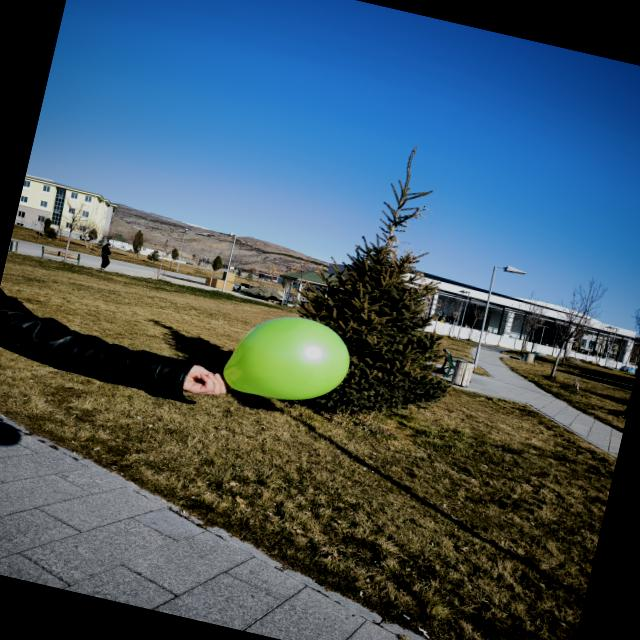balloon: (223, 317, 349, 399)
